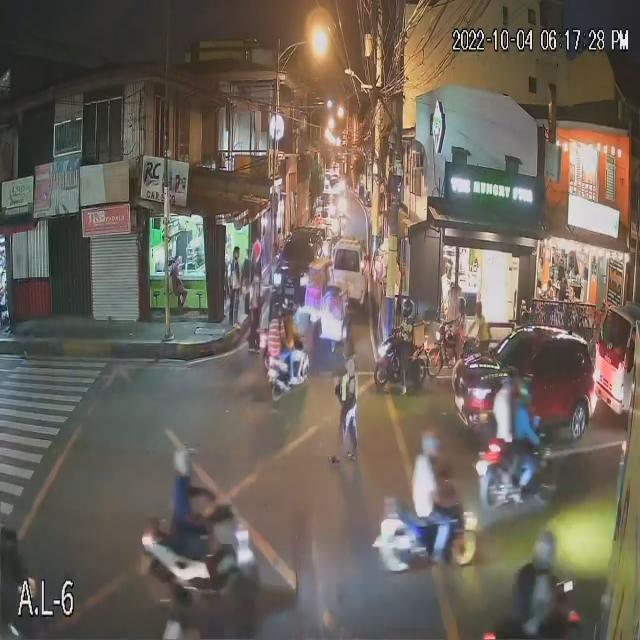helmet: (532, 529, 556, 558), (174, 447, 195, 475), (419, 431, 440, 455), (513, 375, 531, 397)
motorcycle: (140, 501, 266, 605), (371, 490, 481, 575), (475, 432, 553, 515), (494, 579, 589, 640), (261, 329, 313, 401), (373, 329, 425, 392), (426, 319, 468, 377)
rider: (169, 448, 233, 569), (408, 430, 459, 563), (510, 529, 566, 640), (508, 379, 549, 490), (488, 375, 522, 466), (264, 307, 299, 384), (390, 302, 420, 380), (281, 305, 311, 381)
